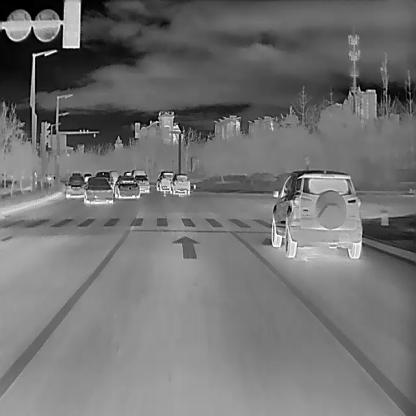car: (271, 169, 361, 258), (84, 176, 113, 203), (113, 174, 139, 197), (64, 173, 84, 196), (169, 173, 189, 195), (156, 170, 173, 191), (134, 173, 149, 193)
